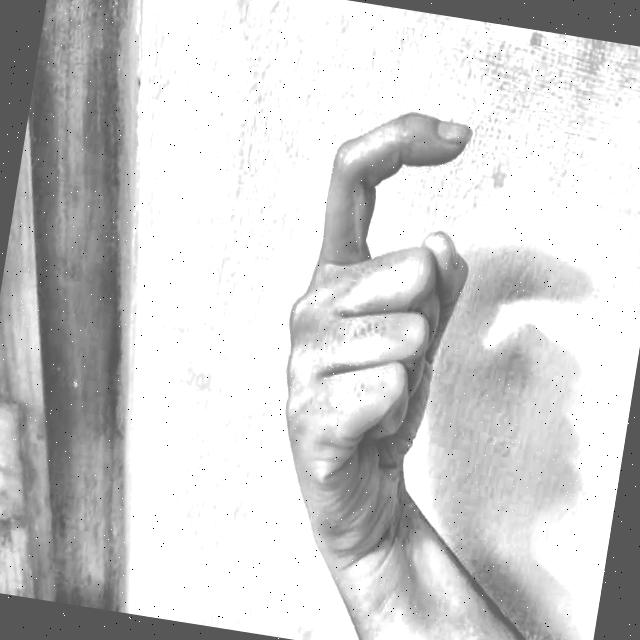E: (217, 74, 528, 579)
